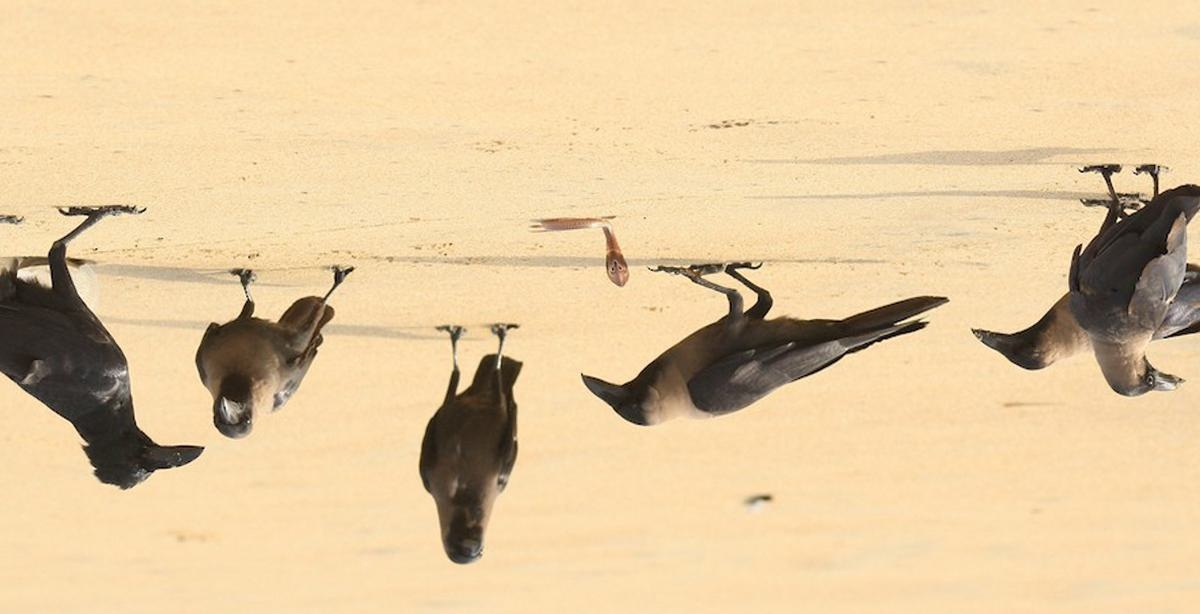crow: (585, 249, 915, 424), (1, 254, 218, 494), (415, 302, 530, 571), (1078, 138, 1188, 410), (198, 262, 350, 446), (969, 293, 1085, 387)
